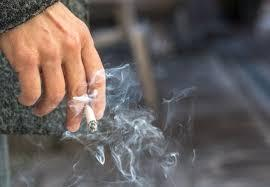smoke: (83, 101, 97, 134)
